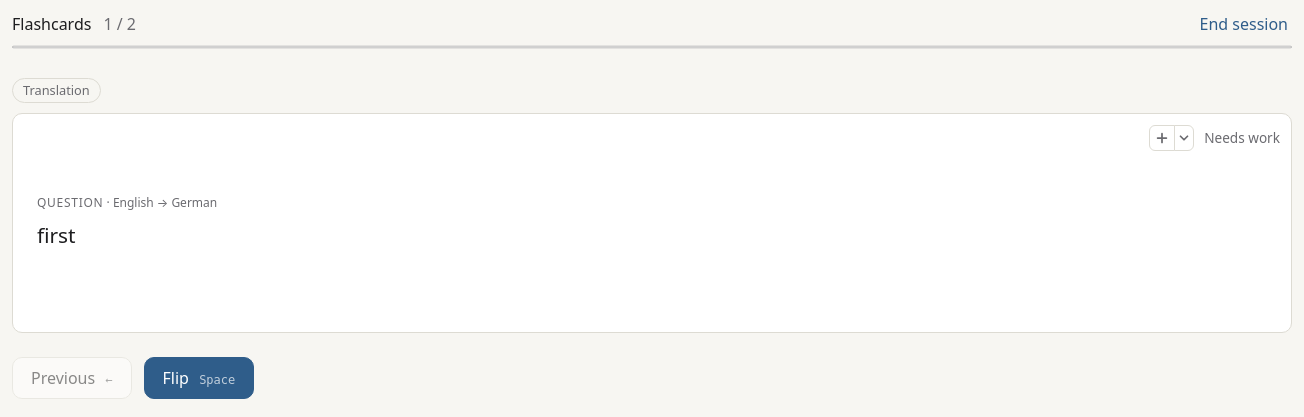
Test case: backward navigation waits for saving and ignores competing navigation
Click the button "Flip Space": (199, 378) [144,357,254,399]
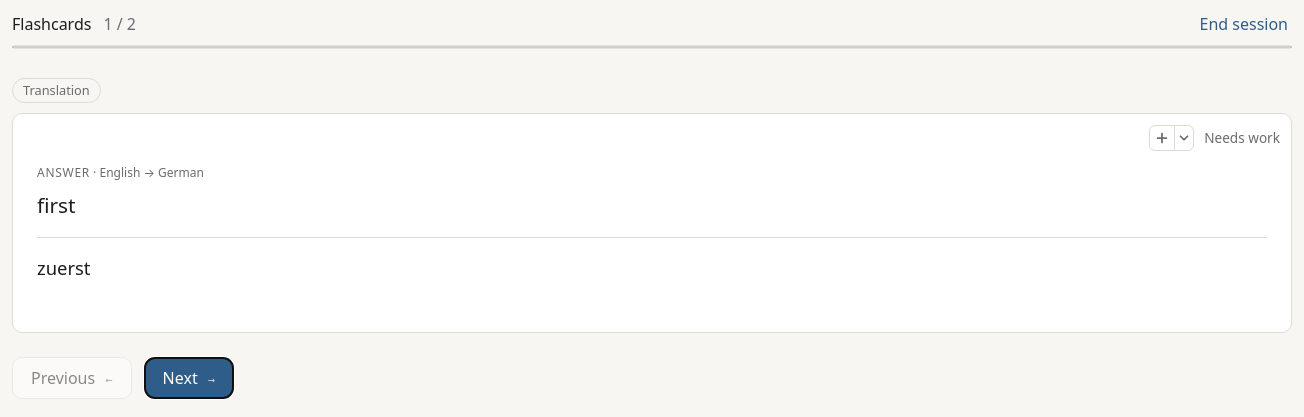
Click the button "Next →": (189, 378) [144,357,234,399]
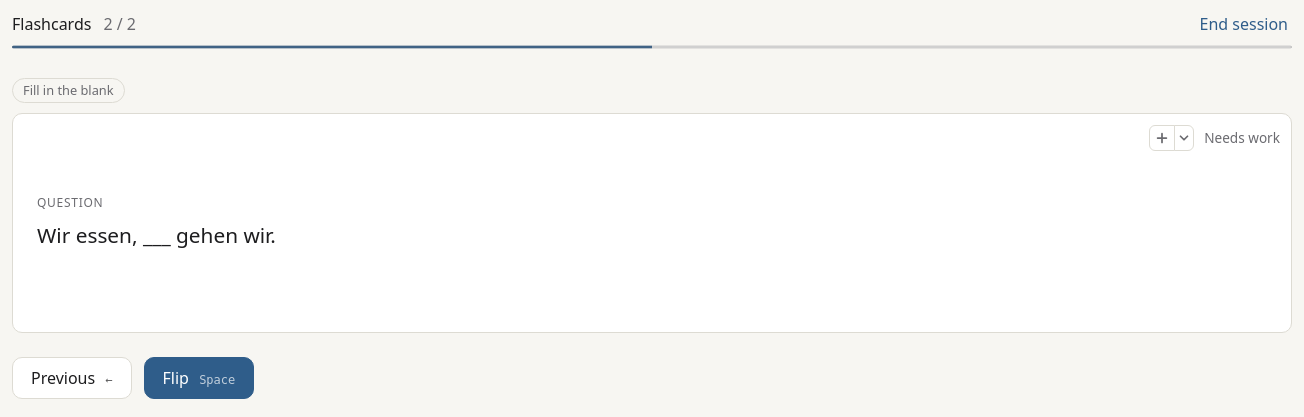
Press Space
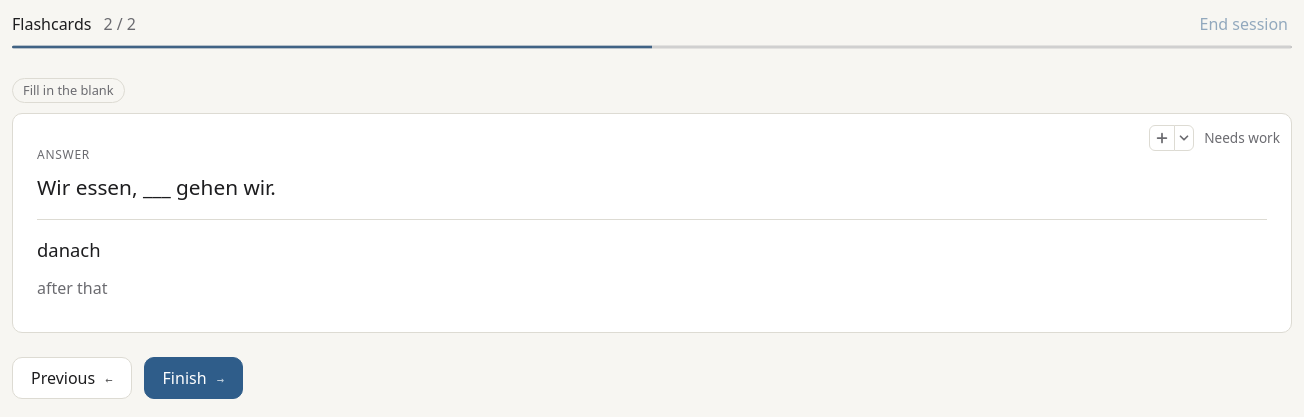
Press ArrowLeft
Press ArrowRight
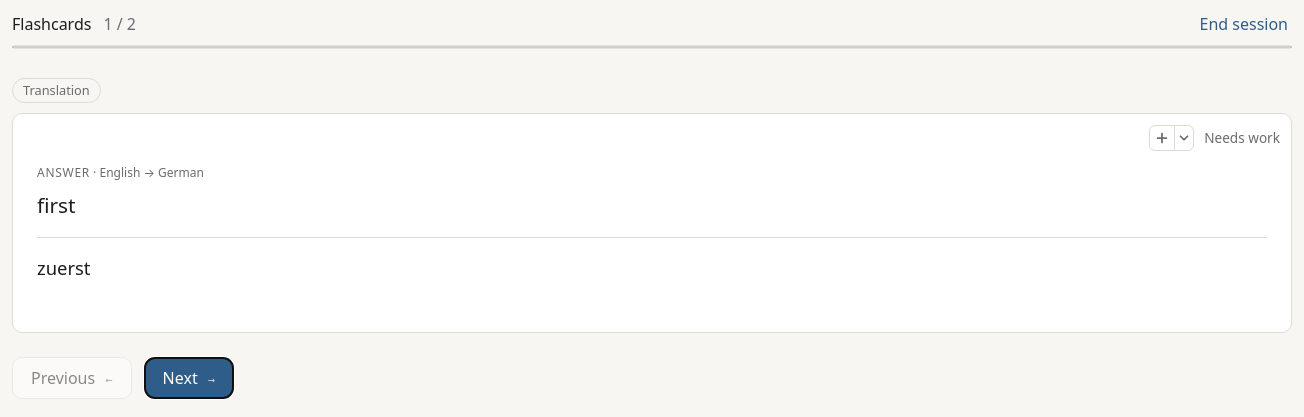
Result: the text "1 / 2" is shown at [103,12,136,36]
